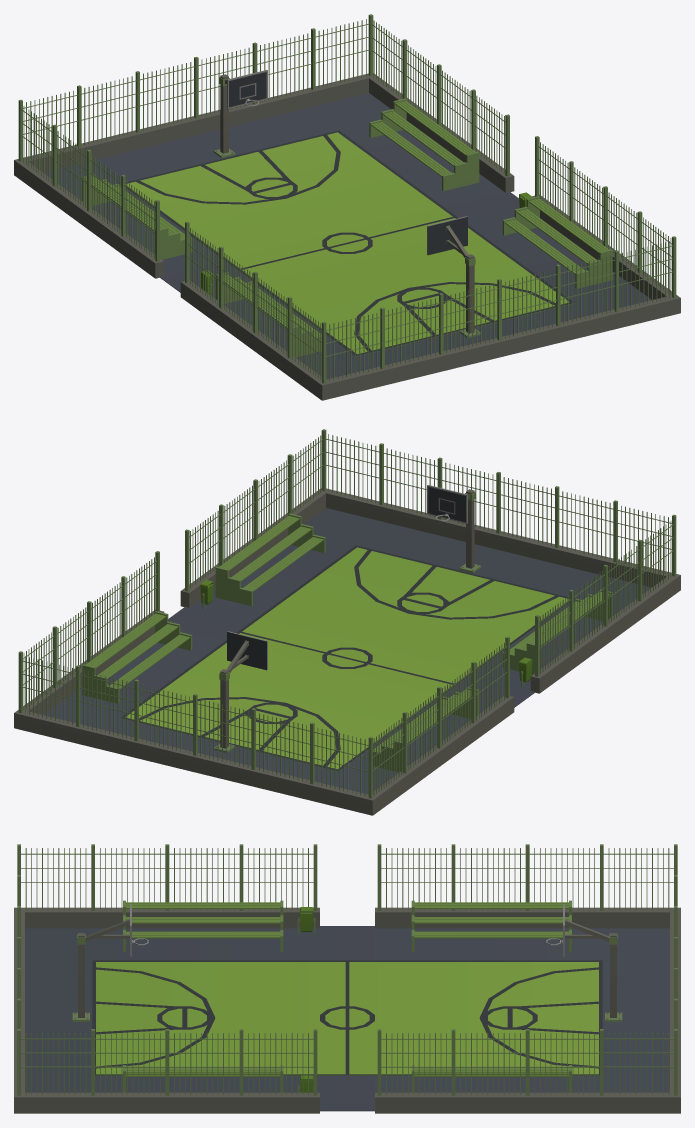
File: BasketballPlayground_01.fbx
3 views of the same model, one above another, from view 1: azimuth 30°, elevation 25°; view 2: azimuth 150°, elevation 25°; view 3: azimuth 270°, elevation 25° (orthographic). The views are drawn at different scales.
Parts seen in each view (by area): view 1: BasketballPlayground_01; view 2: BasketballPlayground_01; view 3: BasketballPlayground_01.
Boxes of the visible parts, left/top/right/bottom form: BasketballPlayground_01: left=14, top=14, right=680, bottom=400; BasketballPlayground_01: left=14, top=429, right=680, bottom=815; BasketballPlayground_01: left=14, top=844, right=680, bottom=1113.
Bounding box in the file's own units: 12.3 × 3.15 × 18.3.
